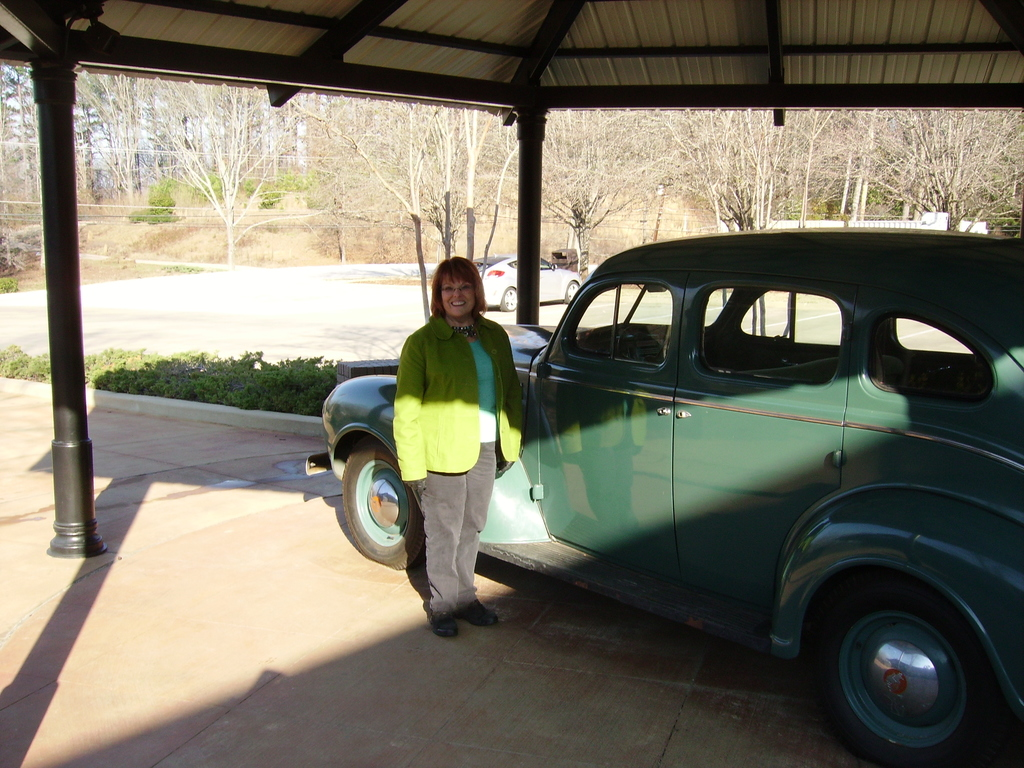Car: (467, 232, 1016, 746), (465, 245, 577, 306)
